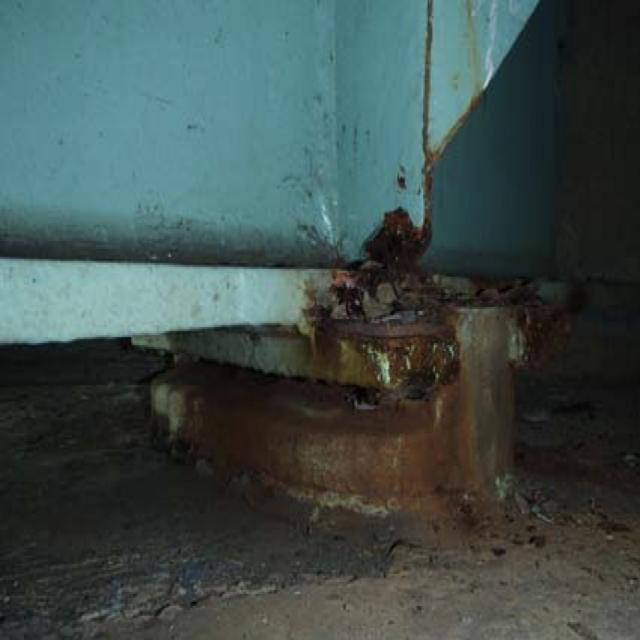corrosion: (310, 223, 479, 508)
